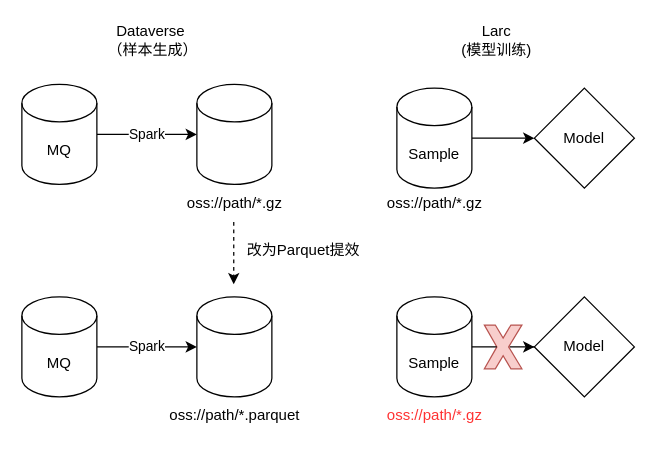
Image size: 656x455. Some labels were removed from this diagram. Here are the shapes that lost their labels. From the top down, the centre of each, then its label:
pixel 234 133: TFrecords
pixel 234 346: Parquet
